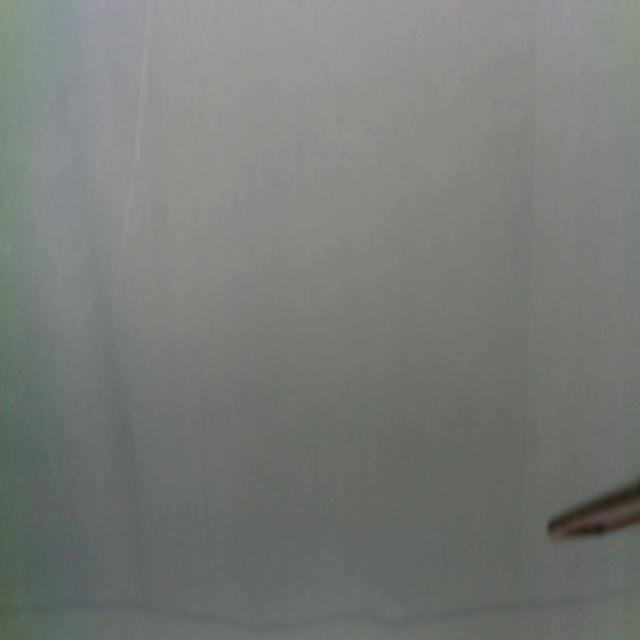color bleeding: (5, 576, 640, 640)
crease: (117, 0, 156, 276)
